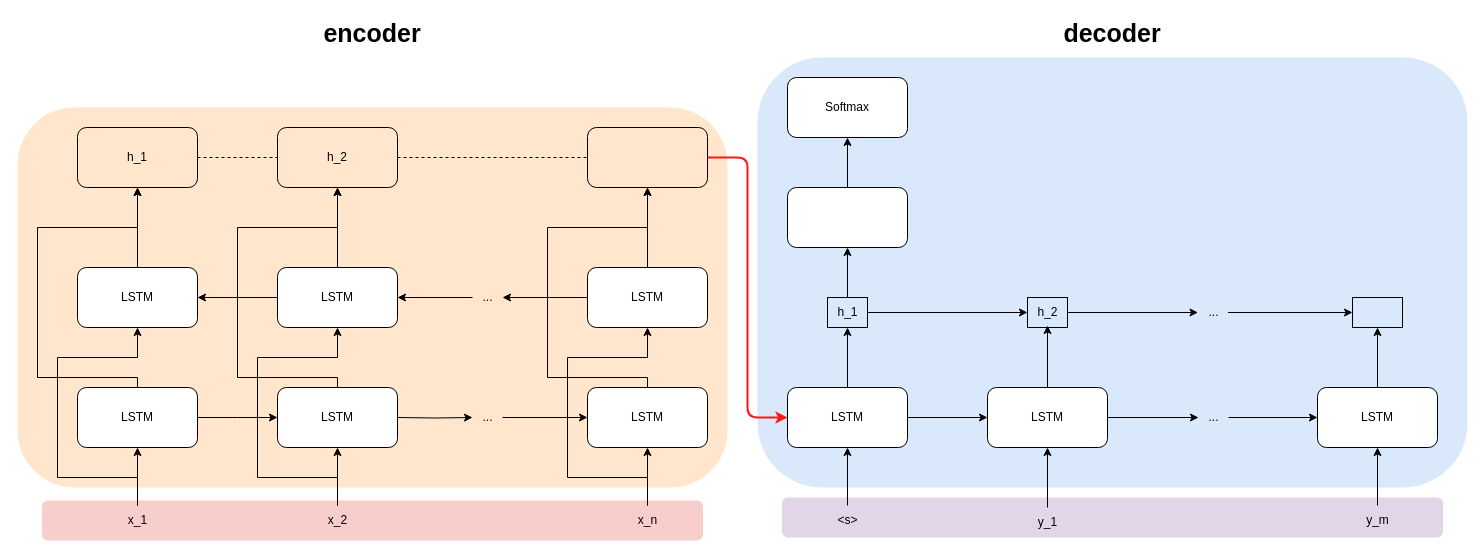
This 1484x557 diagram has some shape labels left out. The box of each missing label's shape, as (x1, y1, x2, y2) in pixels:
h_m: (1352, 296, 1402, 328)
h_n: (586, 126, 708, 188)
Linear: (786, 186, 908, 248)
